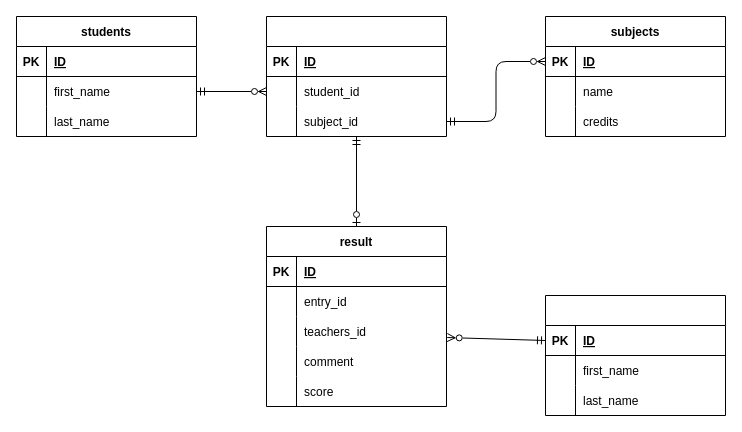
Image size: 742x432. Some labels were removed from this diagram. Here are the shapes that lost their labels. From the top down, the box of each, then its label:
(266, 16, 446, 136): entries
(544, 294, 726, 416): teachers
